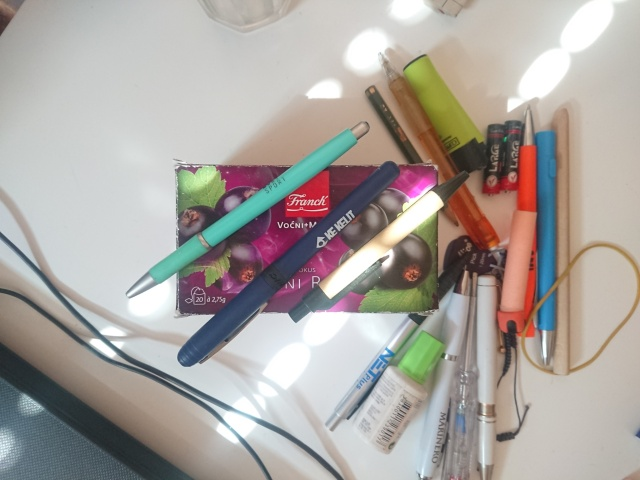Franck Black Currant Tea 60g: (171, 156, 443, 321)
